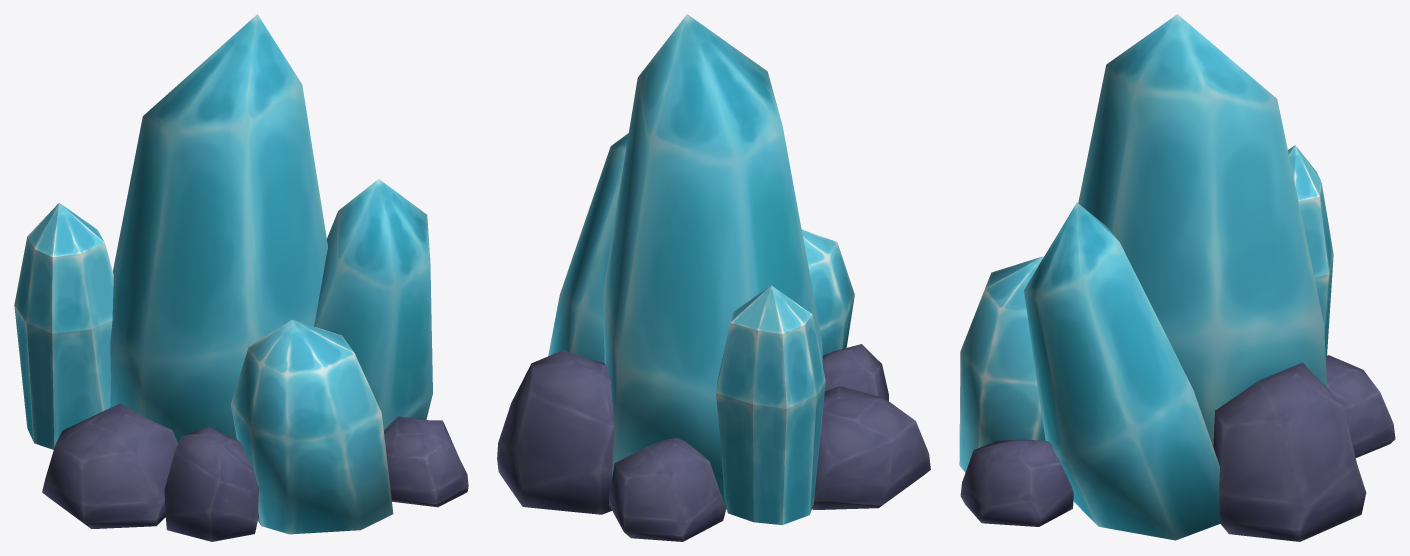
File: MDL_CrystalPile2.fbx
3 views of the same model, side by side, from view 1: azimuth 30°, elevation 25°; view 2: azimuth 150°, elevation 25°; view 3: azimuth 270°, elevation 25° (orthographic). The views are drawn at different scales.
Parts seen in each view (by area): view 1: Crystal_1.001, Crystal_pile1_4.001, Crystal_pile1_2.001, Crystal_5.001, Stone.007, Stone.002, Stone.008; view 2: Crystal_1.001, Crystal_5.001, Stone.010, Stone.007, Stone.009, Crystal_pile1_2.001, Crystal_pile1_4.001, Stone.002; view 3: Crystal_1.001, Crystal_pile1_2.001, Stone.010, Crystal_pile1_4.001, Stone.008, Stone.009, Crystal_5.001.
Boxes of the visible parts, x1,y1,x2,y2 form: Crystal_1.001: [110, 14, 327, 443]; Crystal_pile1_4.001: [231, 319, 393, 534]; Crystal_pile1_2.001: [314, 179, 432, 430]; Crystal_5.001: [14, 203, 113, 449]; Stone.007: [42, 403, 177, 529]; Stone.002: [164, 426, 259, 541]; Stone.008: [384, 416, 468, 507]; Crystal_1.001: [603, 14, 822, 509]; Crystal_5.001: [716, 285, 825, 524]; Stone.010: [497, 350, 614, 514]; Stone.007: [812, 386, 930, 509]; Stone.009: [609, 437, 726, 541]; Crystal_pile1_2.001: [548, 133, 628, 362]; Crystal_pile1_4.001: [801, 229, 854, 355]; Stone.002: [822, 344, 888, 400]; Crystal_1.001: [1078, 14, 1327, 446]; Crystal_pile1_2.001: [1024, 202, 1221, 540]; Stone.010: [1213, 362, 1366, 541]; Crystal_pile1_4.001: [959, 256, 1045, 472]; Stone.008: [960, 439, 1073, 526]; Stone.009: [1325, 355, 1395, 457]; Crystal_5.001: [1288, 145, 1333, 355].
Bounding box in the file's own units: 48.58 × 57.75 × 49.35.
